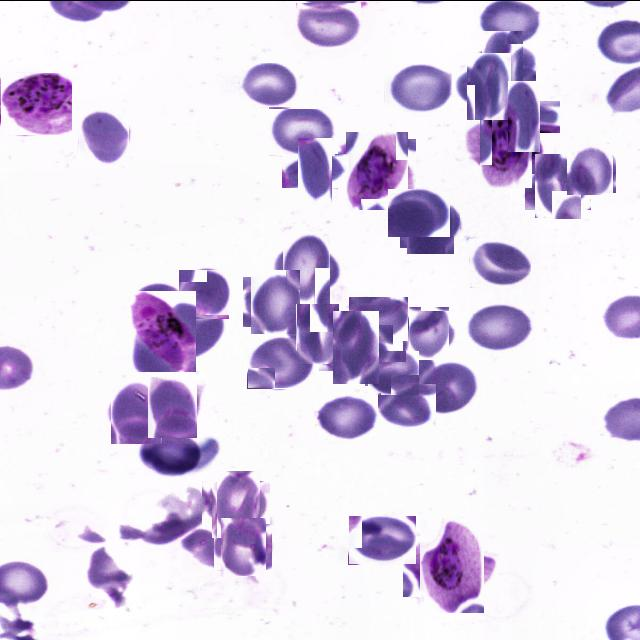difficult: (412, 524, 492, 604), (130, 290, 196, 371)
red blood cell: (276, 238, 336, 298), (326, 317, 386, 377), (416, 359, 481, 414), (247, 335, 314, 388), (384, 63, 452, 113), (207, 475, 265, 533), (246, 272, 304, 330), (108, 382, 166, 440), (466, 302, 533, 352), (268, 106, 335, 156), (348, 515, 416, 564), (530, 158, 586, 214), (461, 58, 517, 114), (144, 378, 200, 434), (136, 430, 204, 476), (469, 238, 531, 288), (314, 394, 380, 440), (76, 110, 131, 165), (388, 188, 450, 236), (476, 36, 530, 90), (403, 196, 457, 250), (296, 2, 361, 45), (218, 520, 270, 572), (291, 306, 343, 358), (498, 90, 550, 142), (290, 144, 340, 196), (240, 62, 299, 106), (349, 296, 408, 340), (378, 383, 436, 426), (364, 350, 419, 395), (182, 266, 230, 316), (566, 144, 614, 193), (407, 308, 452, 356)
schizont: (342, 134, 412, 204), (472, 113, 539, 180)
trophozoite: (1, 72, 72, 134)
